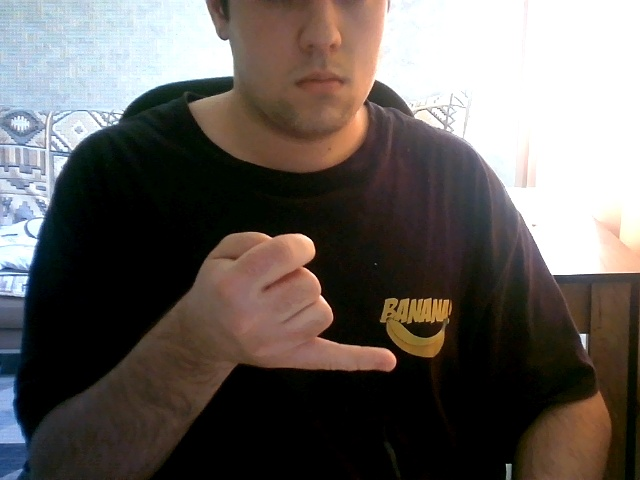bad: (180, 214, 404, 387)
